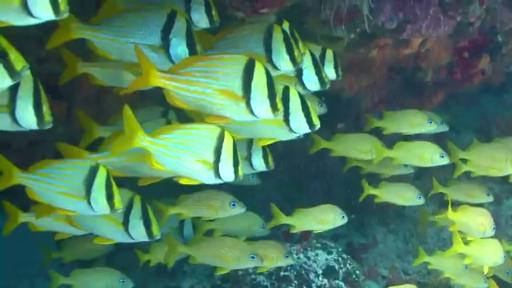Fish: (121, 47, 282, 123), (99, 105, 242, 184), (47, 5, 201, 63), (0, 156, 123, 216), (219, 86, 320, 145), (205, 20, 303, 75), (71, 188, 160, 244), (164, 236, 263, 275), (56, 143, 168, 176), (104, 0, 219, 29), (3, 201, 87, 239), (59, 48, 139, 87), (0, 72, 52, 131), (157, 189, 246, 219), (447, 232, 506, 274), (432, 199, 495, 238), (275, 49, 330, 93), (448, 140, 511, 176), (268, 204, 348, 232), (195, 211, 269, 239), (44, 234, 114, 263), (309, 133, 385, 159), (375, 141, 450, 167), (0, 0, 69, 27), (364, 110, 437, 135), (76, 110, 123, 148), (360, 180, 425, 206), (49, 268, 135, 287), (0, 36, 30, 90), (429, 178, 493, 203), (247, 240, 294, 272), (343, 158, 415, 178), (304, 42, 341, 80), (413, 247, 467, 272), (236, 140, 274, 173), (87, 39, 138, 63), (453, 159, 511, 179), (442, 267, 489, 287), (135, 241, 167, 266), (489, 256, 511, 283), (423, 112, 449, 134), (303, 94, 327, 115), (229, 173, 261, 185), (493, 136, 511, 147), (501, 240, 511, 253), (388, 284, 417, 287)
